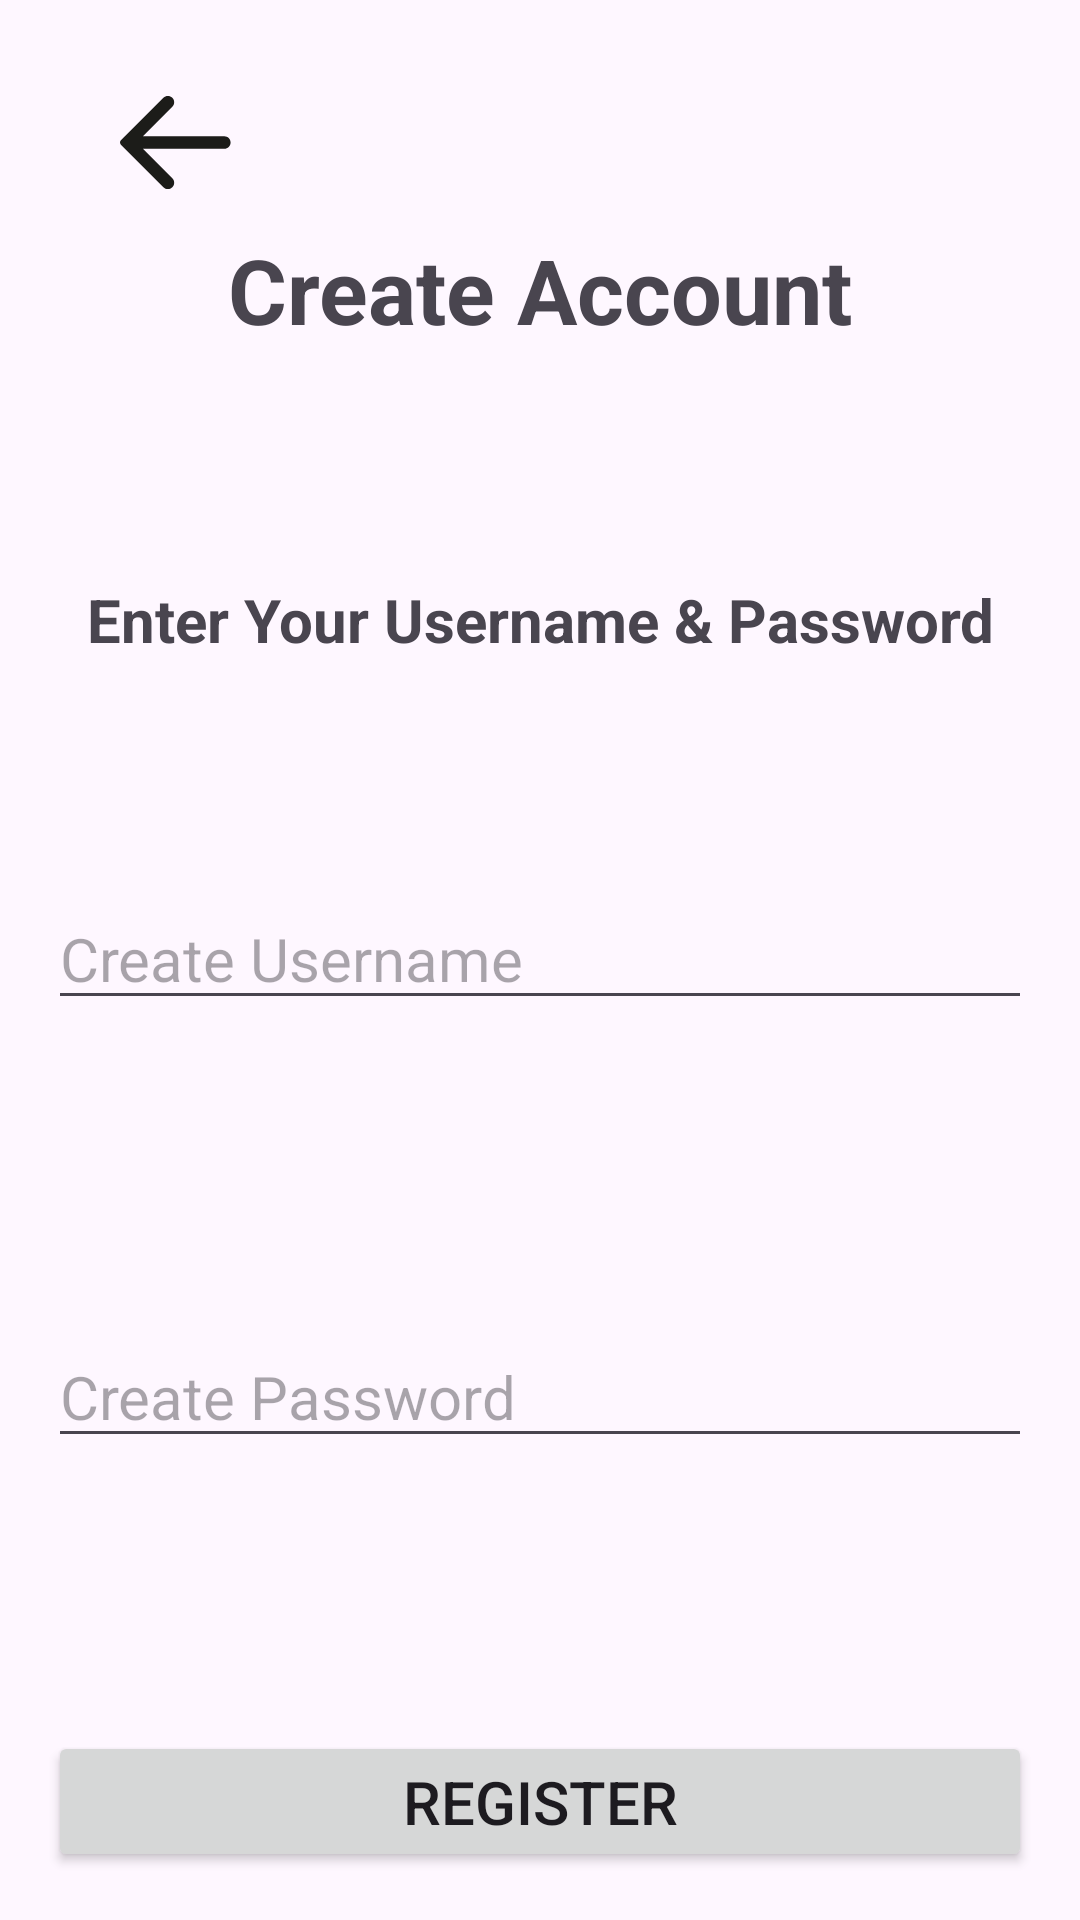

Icons on this 1080 x 1920 Android screen, each with its box as (x1, y1, x2, y2):
arrowleft: (120, 96, 231, 189)
